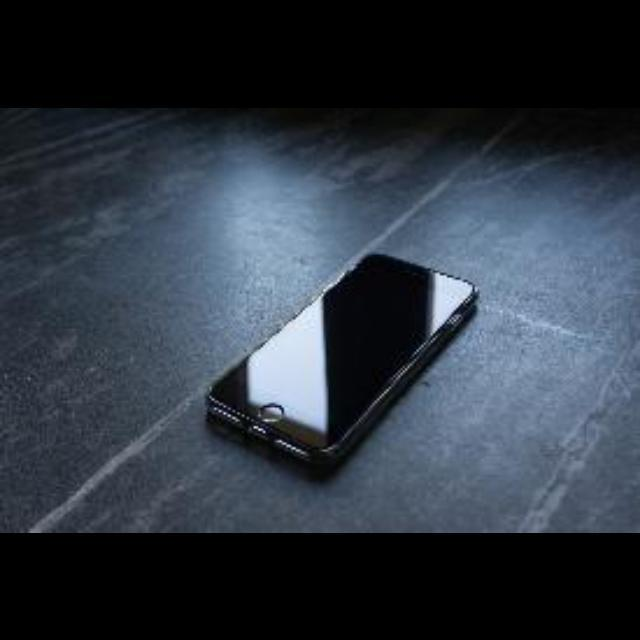phone: (179, 233, 503, 502)
